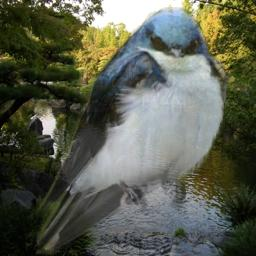Swallow: (29, 6, 230, 255)
